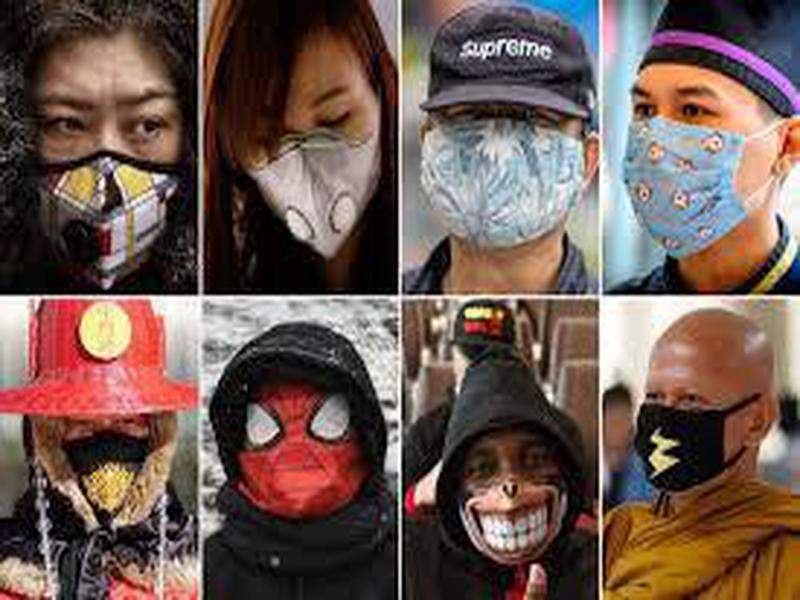with_mask: (27, 33, 178, 288), (621, 44, 800, 259), (235, 20, 381, 262), (633, 309, 778, 494), (418, 103, 589, 252), (460, 433, 571, 566), (54, 418, 148, 520)
